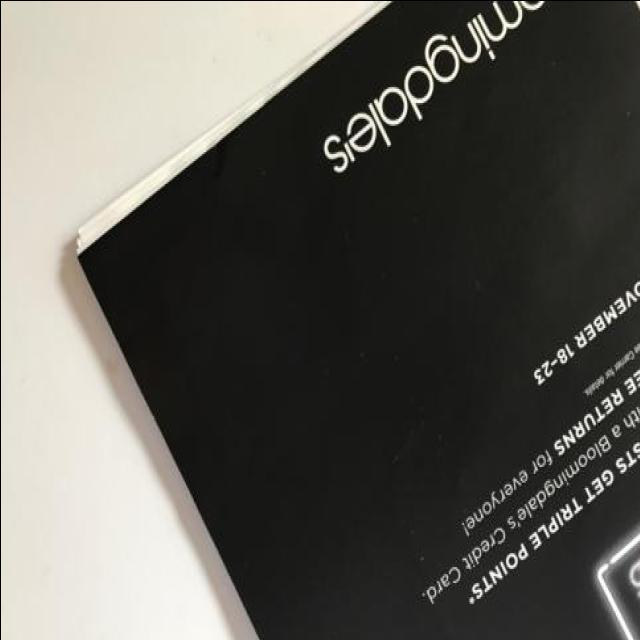kertas: (70, 0, 640, 640)
